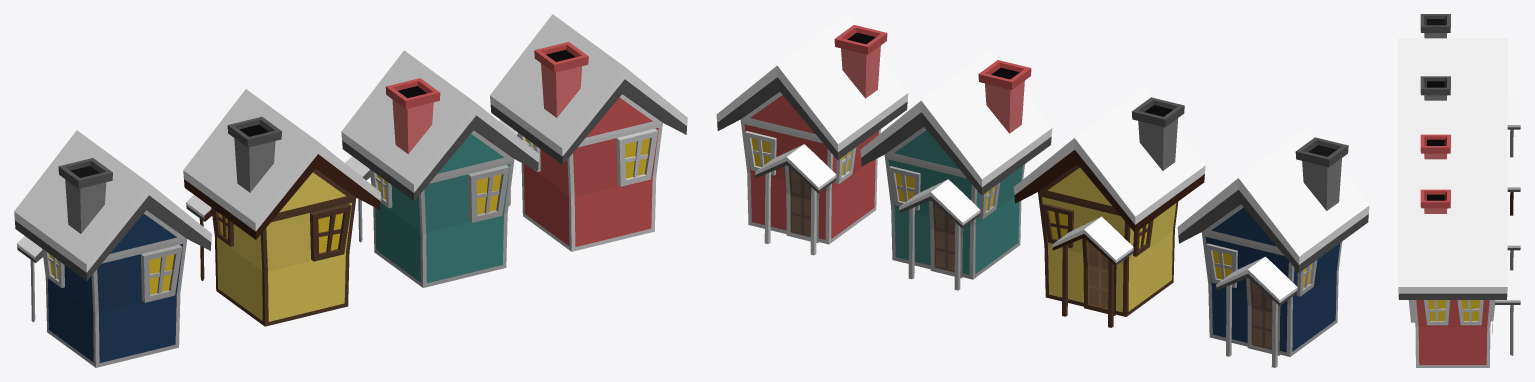
The model's file is Houses.fbx.
3 views of the same model, side by side, from view 1: azimuth 30°, elevation 25°; view 2: azimuth 150°, elevation 25°; view 3: azimuth 270°, elevation 25° (orthographic). The views are drawn at different scales.
Visible parts, largest first — view 1: House_D, House_C, House_B, House_A; view 2: House_C, House_D, House_B, House_A; view 3: House_A, House_D, House_C, House_B.
Boxes of the visible parts, <box> form: House_D: <box>14,130,211,367</box>; House_C: <box>183,89,380,326</box>; House_B: <box>341,50,539,287</box>; House_A: <box>490,14,687,251</box>; House_C: <box>1013,86,1205,327</box>; House_D: <box>1177,126,1369,367</box>; House_B: <box>860,49,1052,290</box>; House_A: <box>716,14,908,255</box>; House_A: <box>1398,189,1520,367</box>; House_D: <box>1398,14,1520,157</box>; House_C: <box>1398,76,1520,215</box>; House_B: <box>1398,134,1520,270</box>.
Bounding box in the file's own units: 2396 × 717 × 560.
